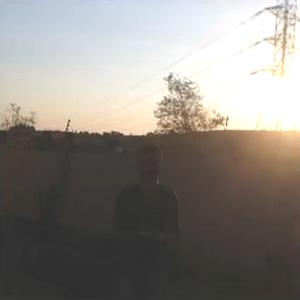follow: (114, 140, 182, 299)
